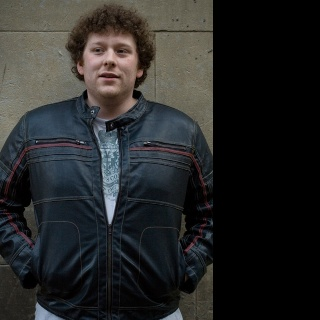without_mask: (81, 24, 138, 105)
